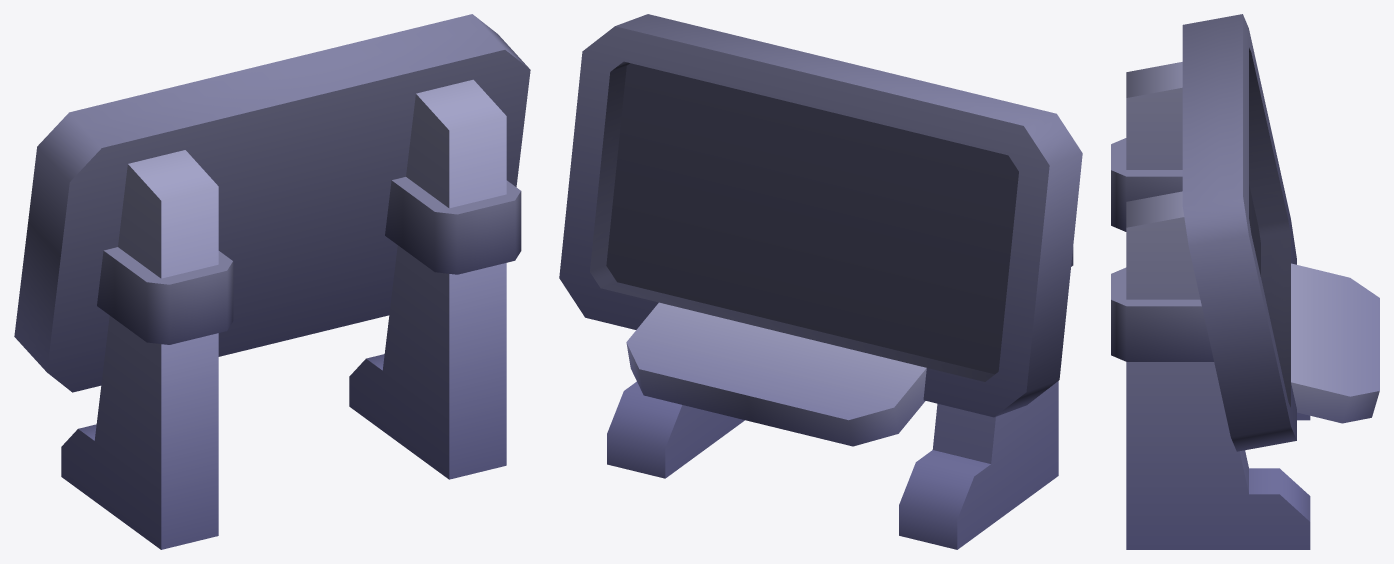
The model's file is screen_panel_wide.glb.
The picture shows the model from 3 angles, left to right: view 1: azimuth 30°, elevation 25°; view 2: azimuth 150°, elevation 25°; view 3: azimuth 270°, elevation 25°; orthographic projection. The views are drawn at different scales.
Parts seen in each view (by area): view 1: screen-panel-wide; view 2: screen-panel-wide; view 3: screen-panel-wide.
Boxes of the visible parts, box(x1,y1,x2,y2) form: screen-panel-wide: box(14, 14, 530, 549); screen-panel-wide: box(559, 14, 1082, 549); screen-panel-wide: box(1111, 14, 1379, 549).
Size of the model in its own units: 1.2 by 0.9913 by 0.6572.
Materials: 1 (1 with a texture image).
